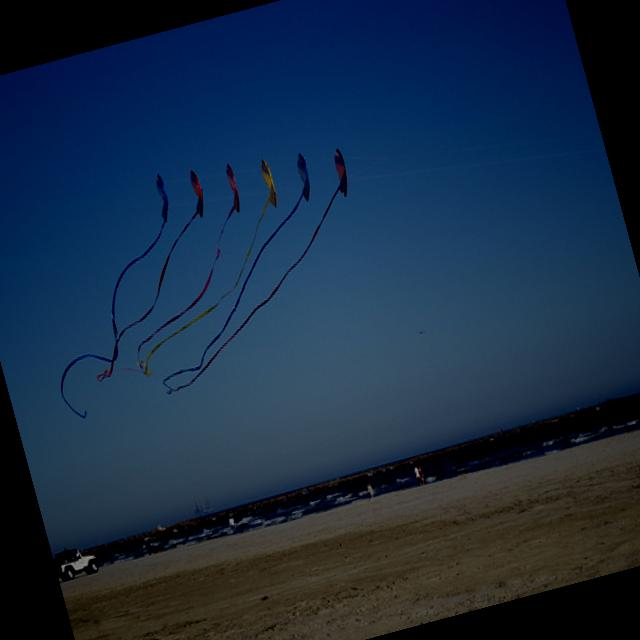Vehicle: (52, 544, 100, 582)
